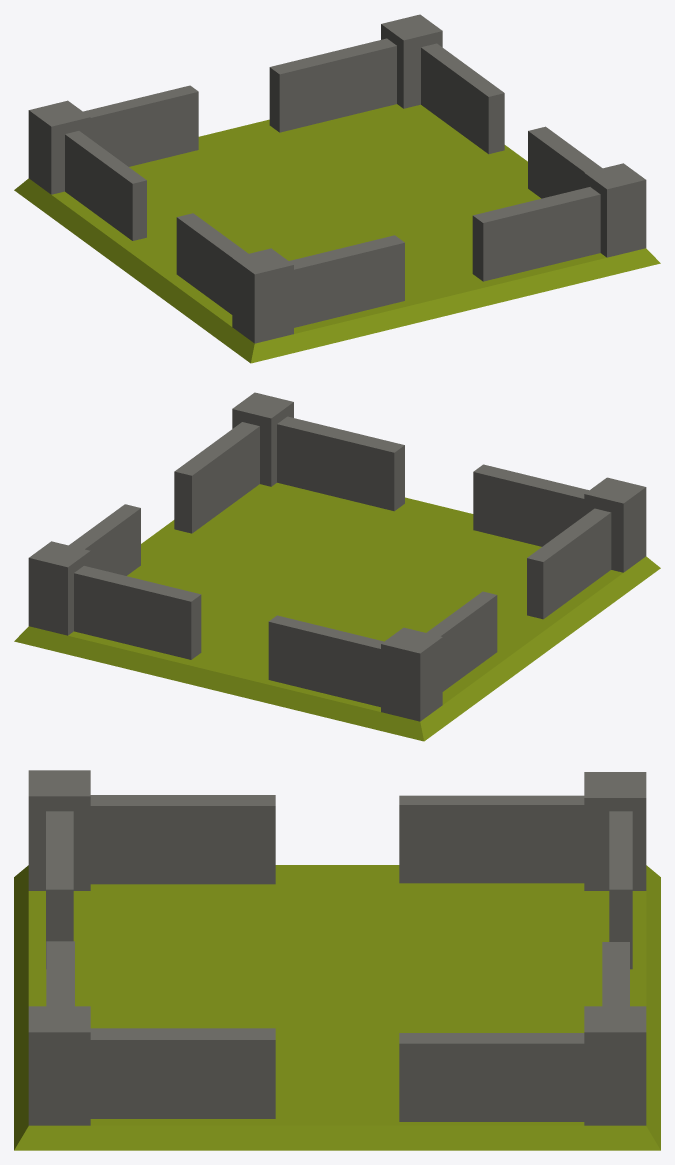
File: cemetery_island.fbx
The picture shows the model from 3 angles, top to bottom: view 1: azimuth 30°, elevation 25°; view 2: azimuth 150°, elevation 25°; view 3: azimuth 270°, elevation 25°; orthographic projection. The views are drawn at different scales.
Parts seen in each view (by area): view 1: polySurface3279; view 2: polySurface3279; view 3: polySurface3279.
Boxes of the visible parts, bbox=[...] form: polySurface3279: bbox=[14, 14, 660, 363]; polySurface3279: bbox=[14, 392, 660, 741]; polySurface3279: bbox=[14, 770, 660, 1150].
Size of the model in its own units: 105 by 21.26 by 105.
1 material, 1 textured.
